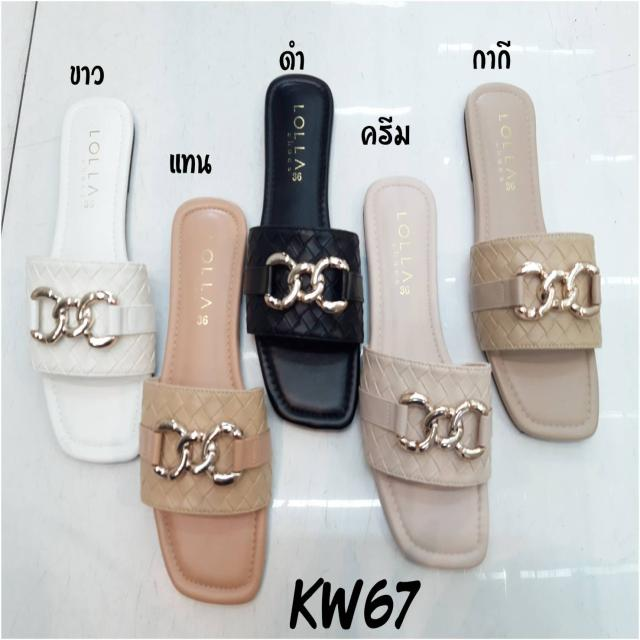black: (260, 70, 360, 422)
cream: (362, 184, 489, 561)
kakee: (469, 81, 601, 433)
tan: (151, 203, 276, 592)
white: (48, 101, 154, 457)
